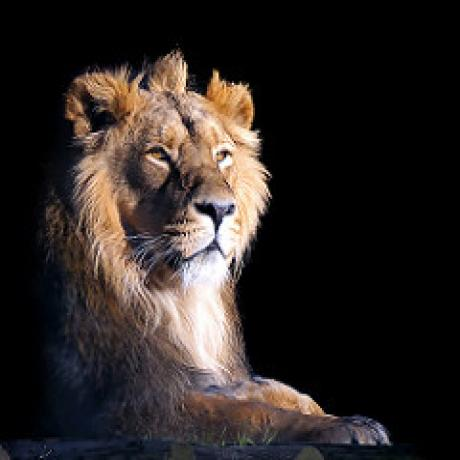Lion: (35, 50, 390, 448)
